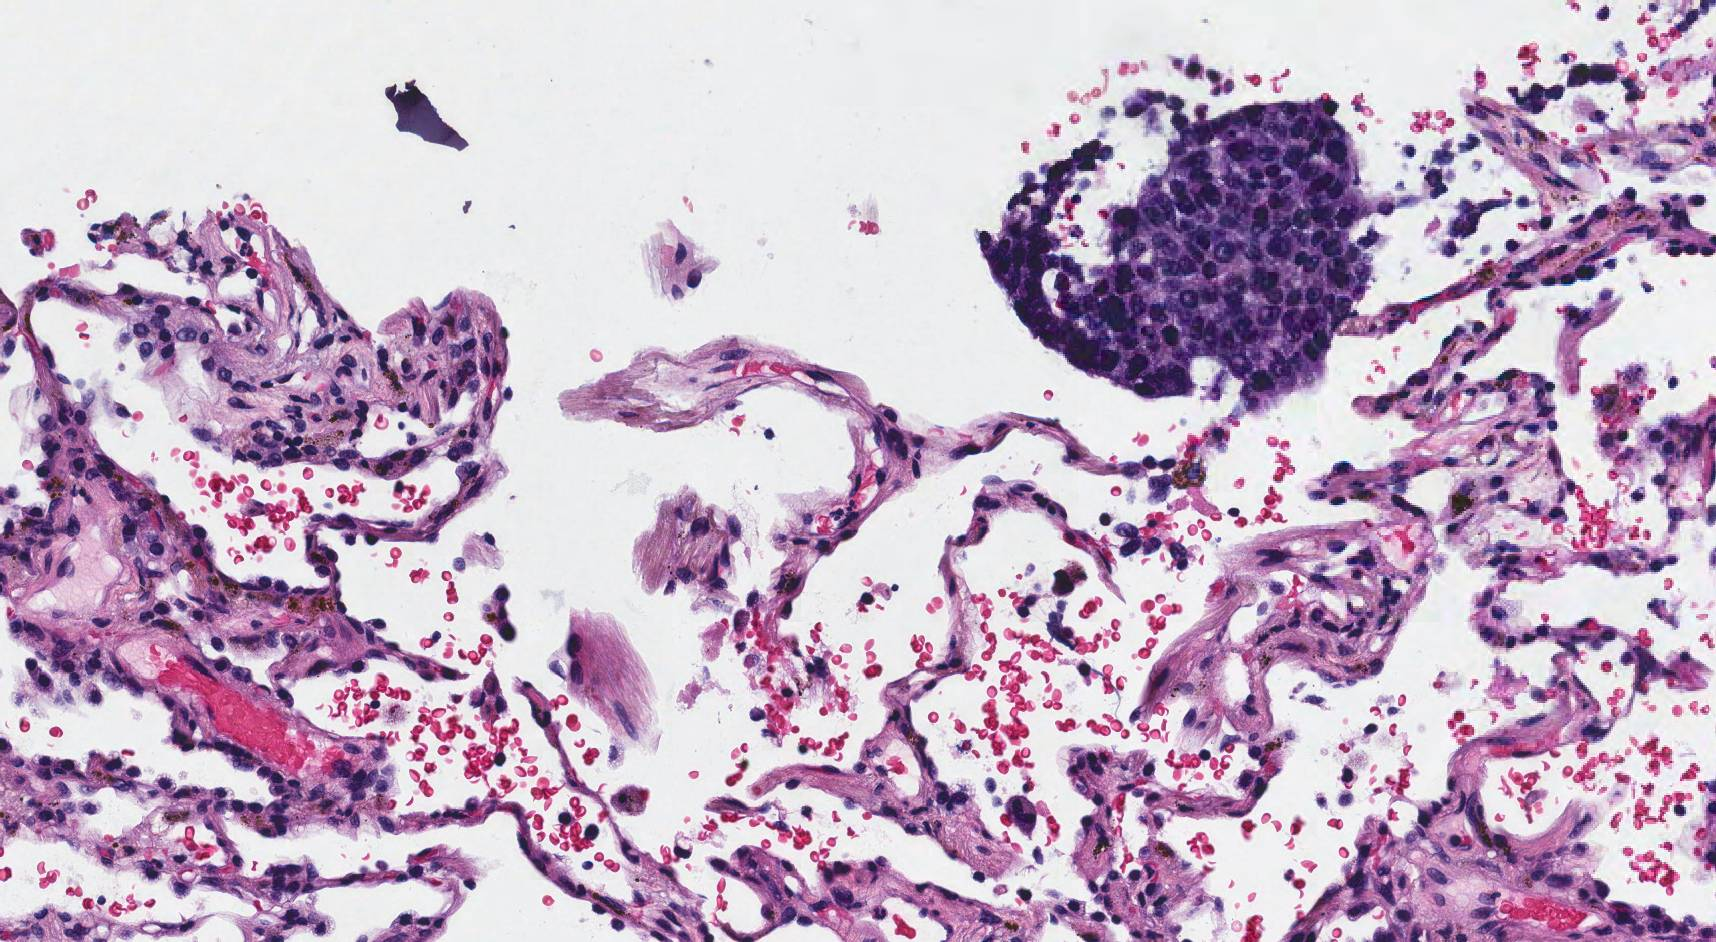stas: (975, 95, 1374, 403)
